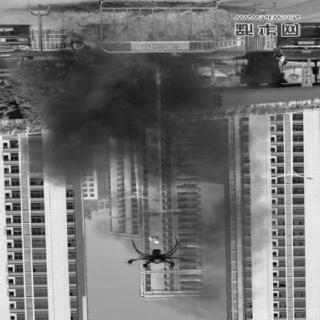Smoke: (29, 56, 223, 186)
